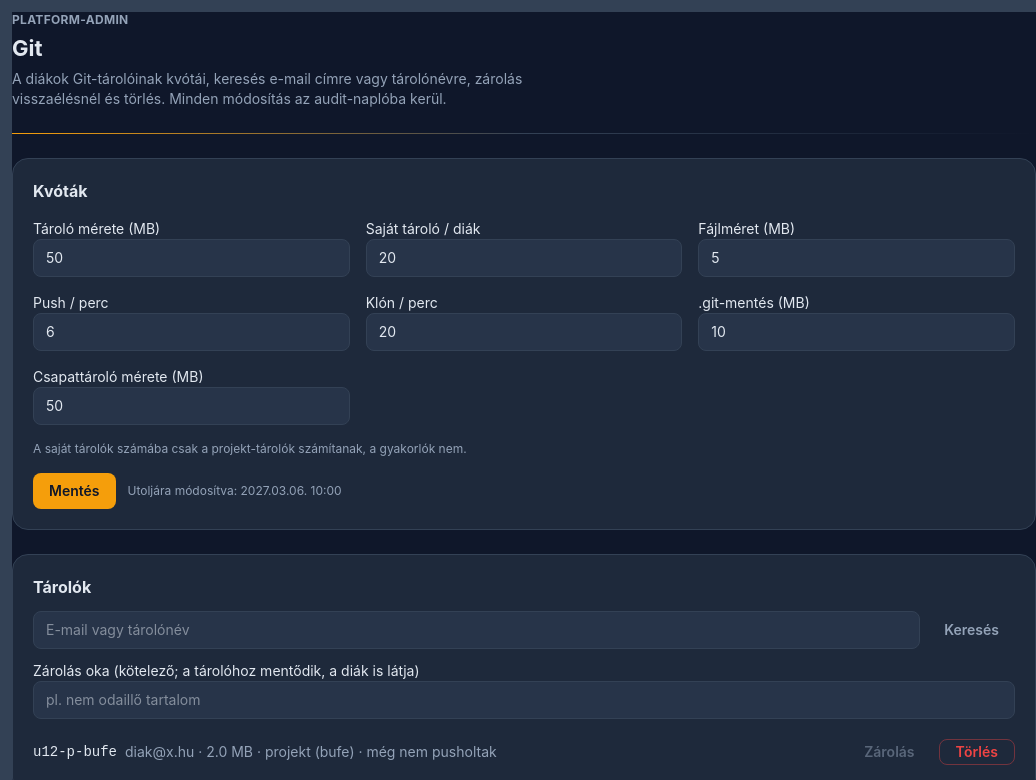
Test: AdminGitComponent › érvénytelen kvótánál a Mentés tiltva; a kérés updatedAt nélkül megy
Replace the text in the number field named "snapshotMaxMb" with "51" at (857, 332), box [698,313,1015,351]
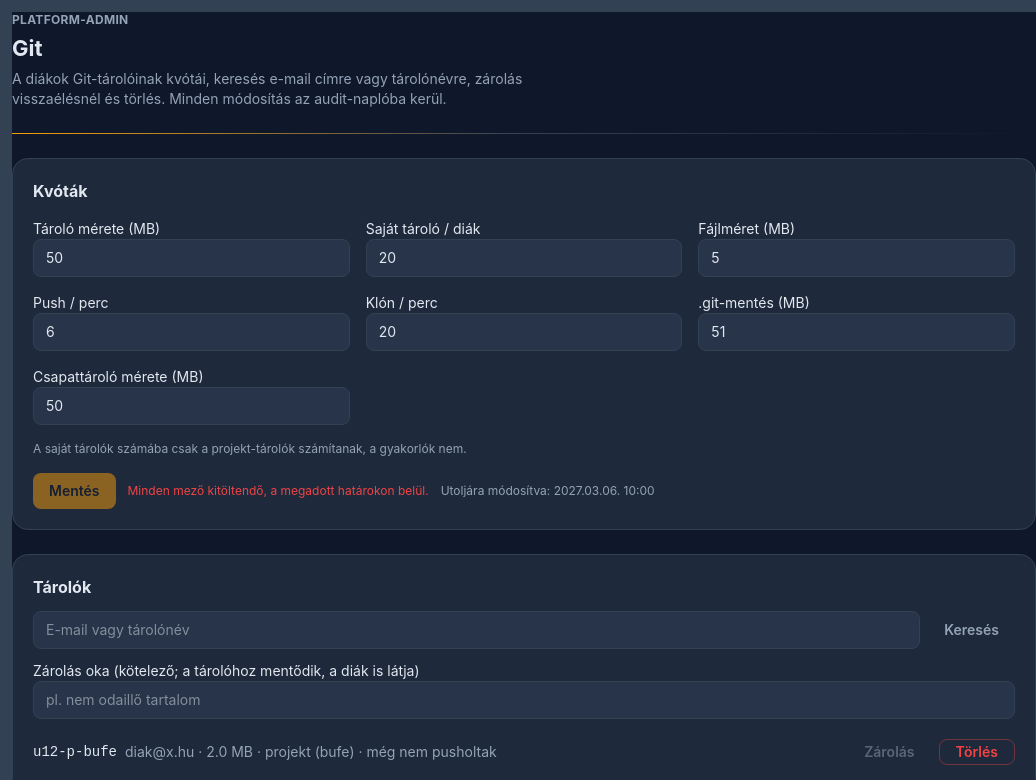
Now the button with test id "git-quota-save" is disabled, box [33,473,116,509]
Replace the text in the number field named "snapshotMaxMb" with "20" at (857, 332), box [698,313,1015,351]
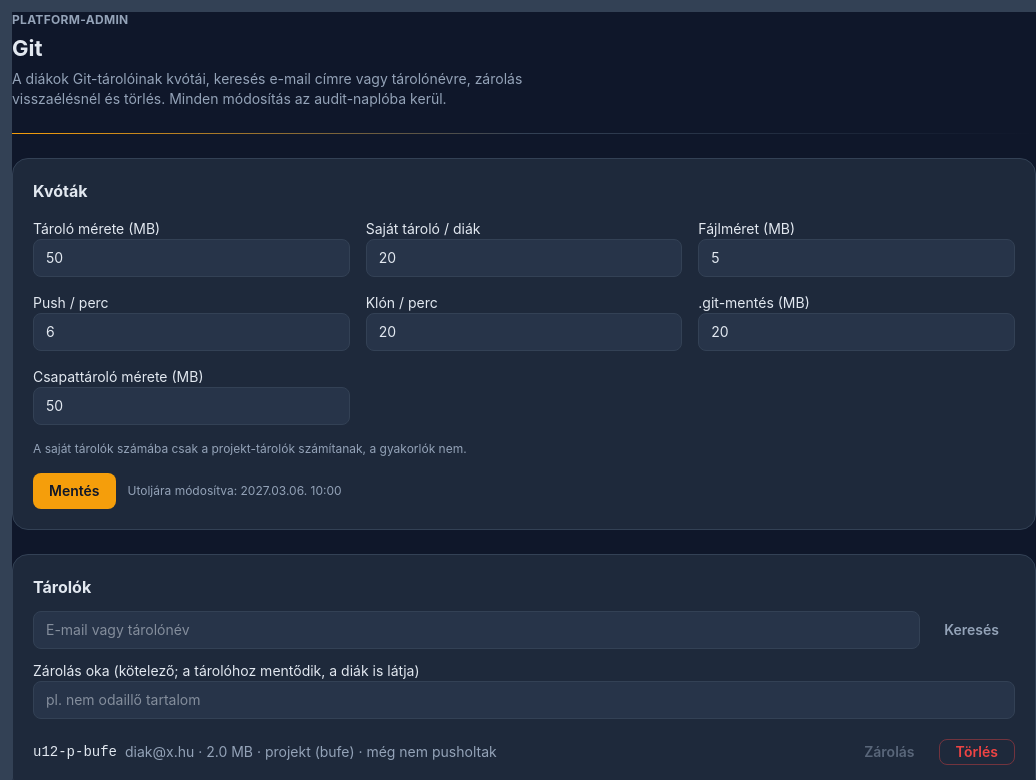
Now the button with test id "git-quota-save" is enabled, box [33,473,116,509]
